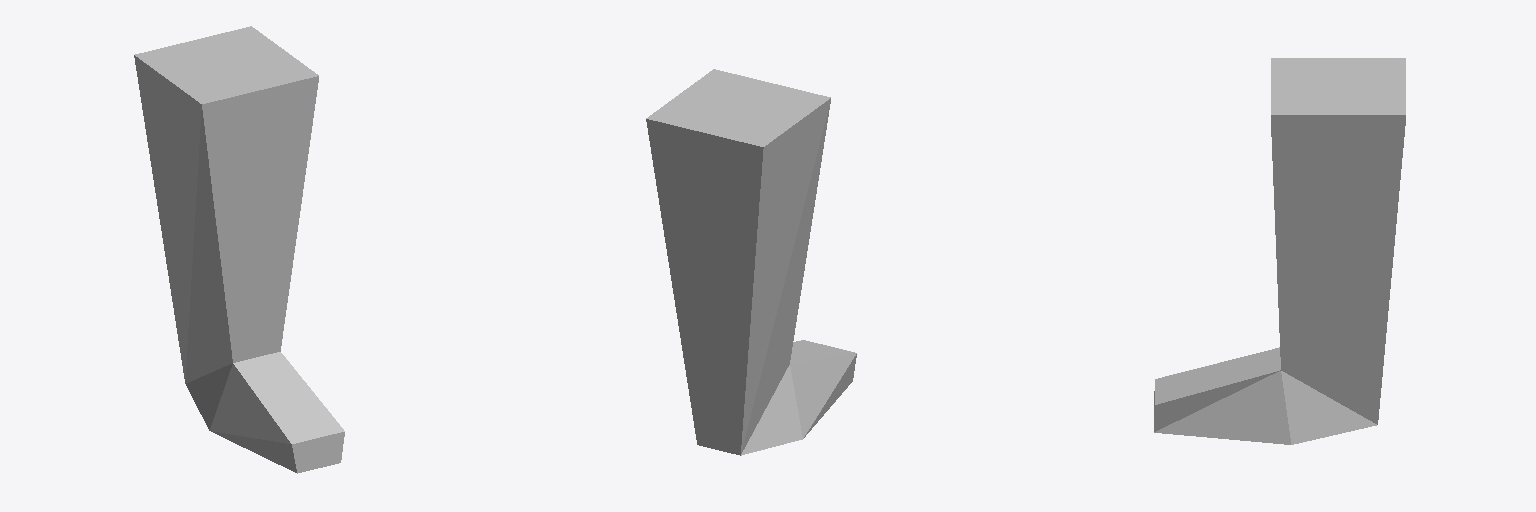
File: 06_01_RLeg.obj
The picture shows the model from 3 angles: view 1: azimuth 30°, elevation 25°; view 2: azimuth 150°, elevation 25°; view 3: azimuth 270°, elevation 25°; orthographic projection.
Visible parts, largest first — view 1: polySurface9 Cube; view 2: polySurface9 Cube; view 3: polySurface9 Cube.
Part boxes in pixels (x1,y1,x2,y2): polySurface9 Cube: (134, 26, 344, 473); polySurface9 Cube: (646, 69, 856, 455); polySurface9 Cube: (1154, 58, 1405, 444).
Size of the model in its own units: 30.47 by 83.79 by 56.73.